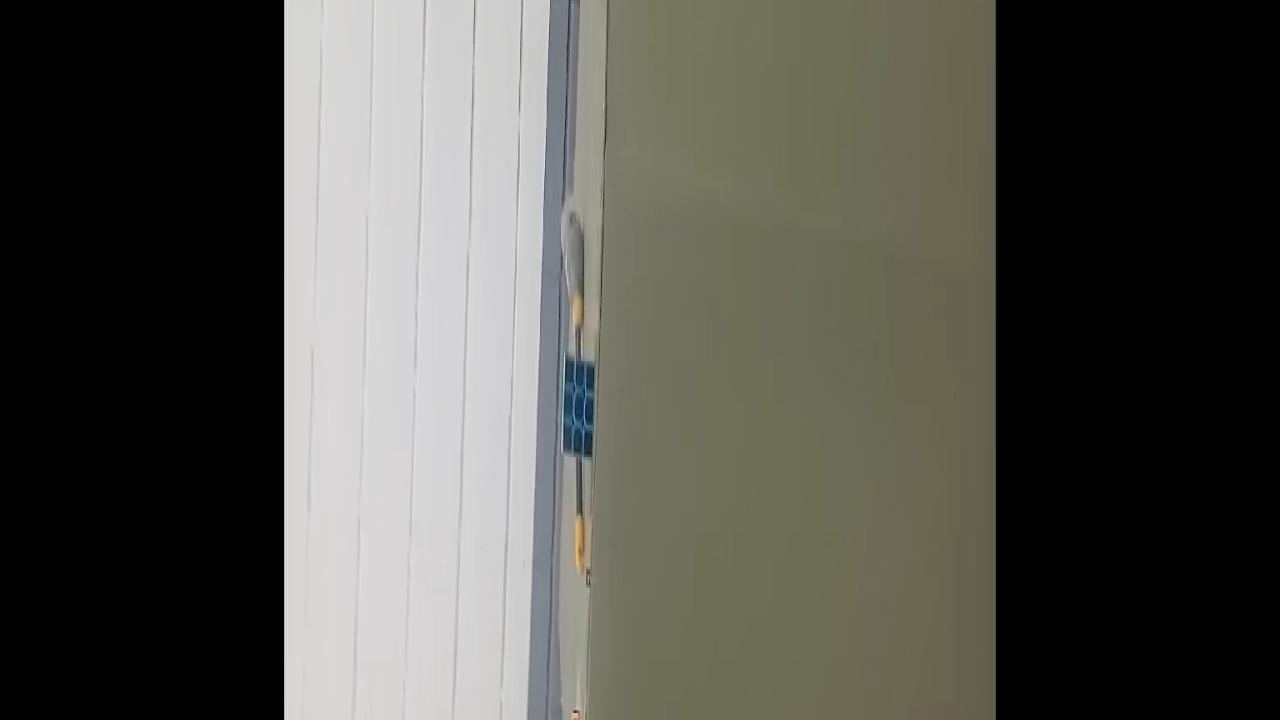Cube: (560, 346, 596, 457)
